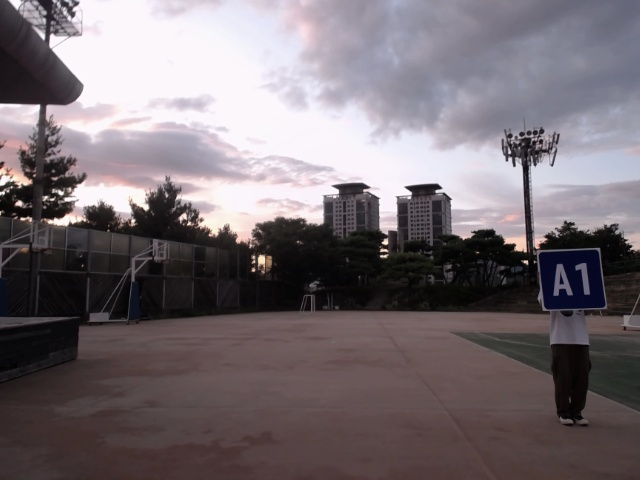delivery_a1: (538, 248, 607, 309)
